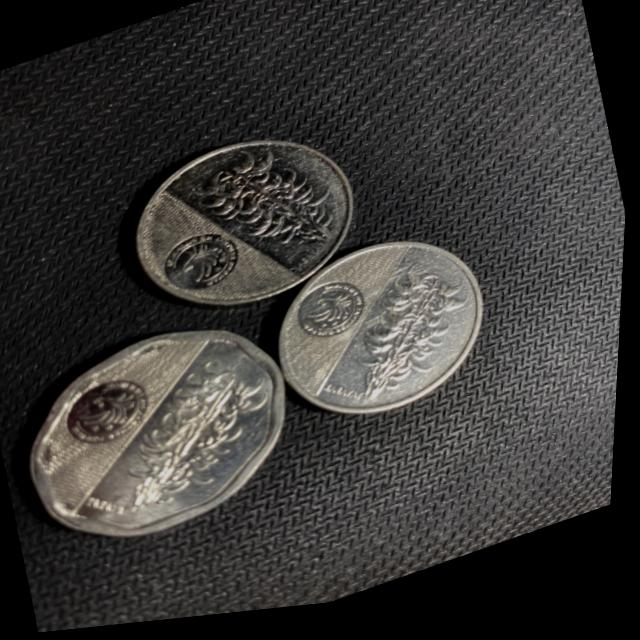5_New_Back: (102, 347, 274, 518), (340, 245, 490, 409), (201, 137, 339, 294)
